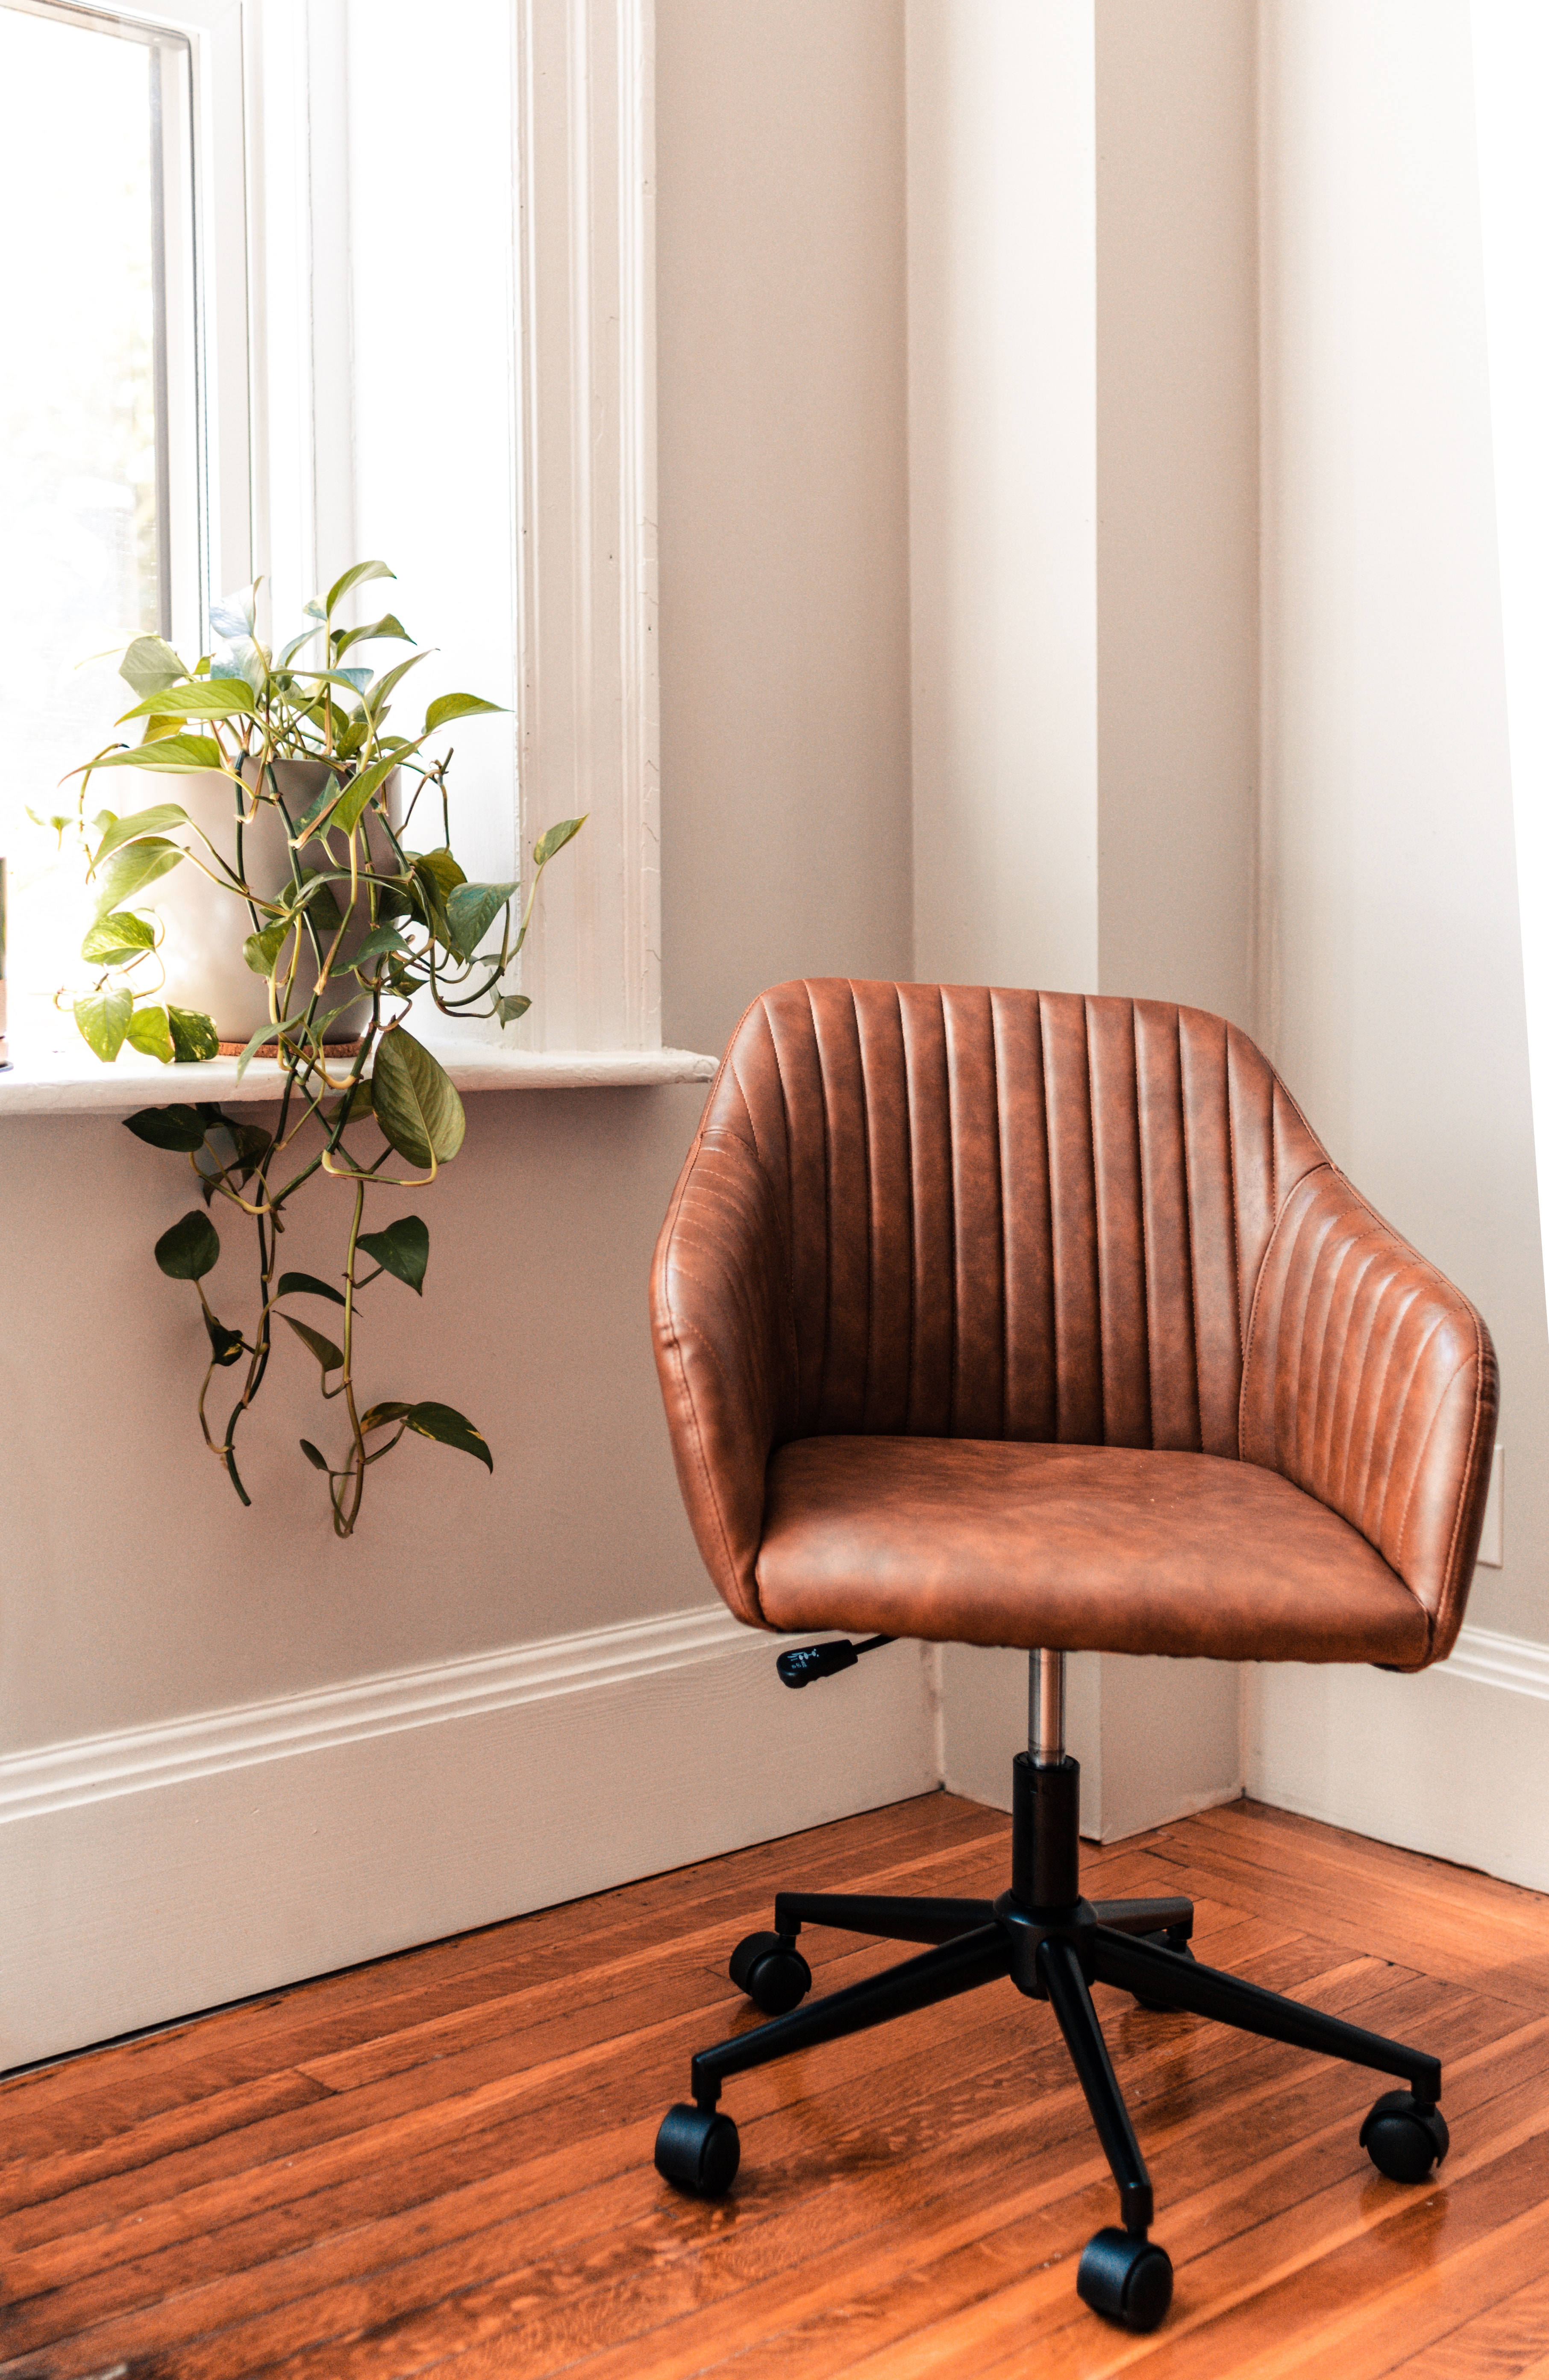Chair: (654, 938, 1492, 2340)
Plant: (66, 654, 536, 1540)
